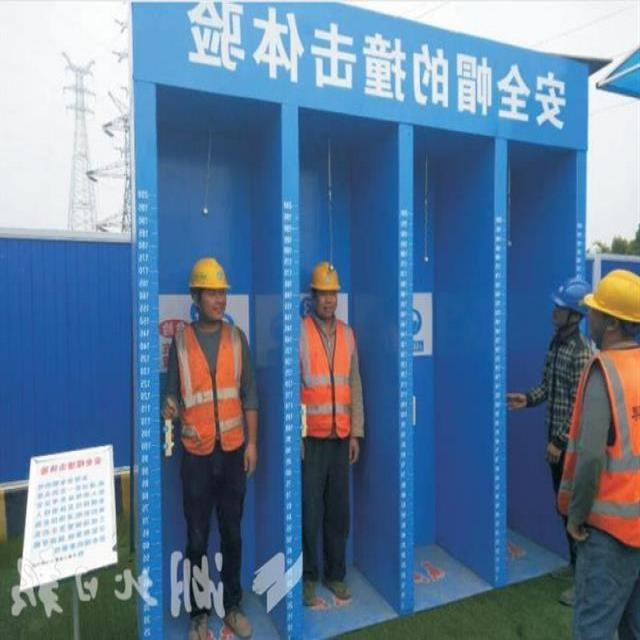Reflective-Jacket: (568, 348, 640, 548), (174, 317, 246, 453), (299, 316, 356, 437)
Safety-Helmet: (583, 267, 640, 325), (186, 255, 229, 292), (310, 260, 341, 294)
